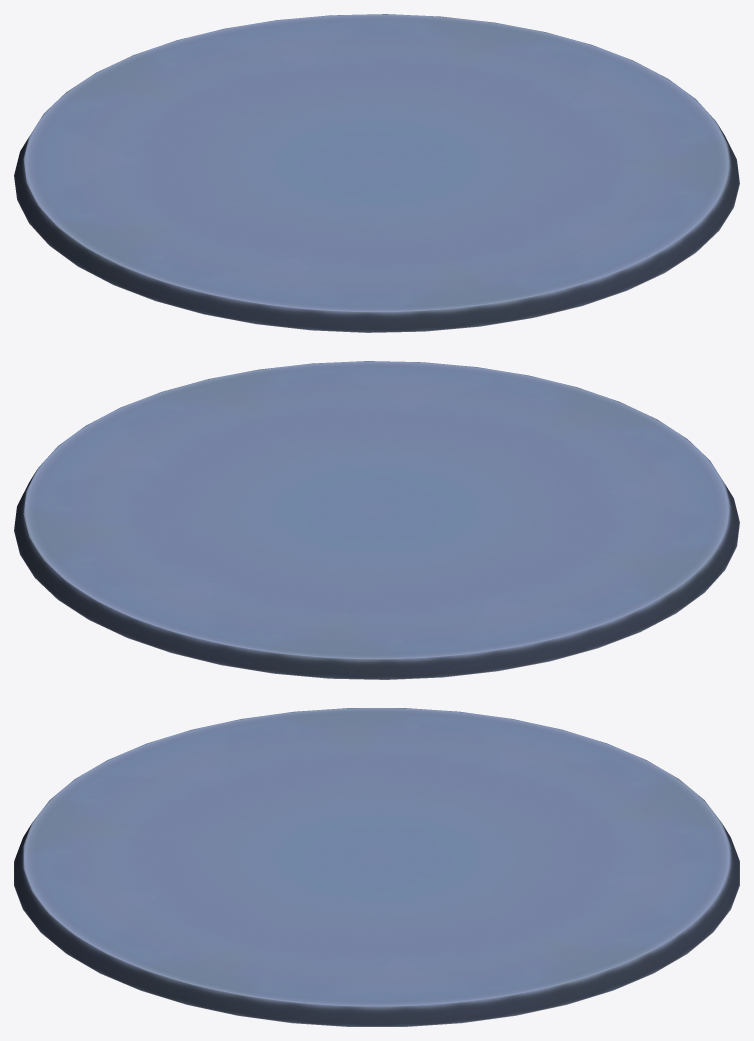
The model's file is obj_rstairs.gltf.
3 views of the same model, one above another, from view 1: azimuth 30°, elevation 25°; view 2: azimuth 150°, elevation 25°; view 3: azimuth 270°, elevation 25° (orthographic).
Parts seen in each view (by area): view 1: obj_rstairs; view 2: obj_rstairs; view 3: obj_rstairs.
Part boxes in pixels (<box>): obj_rstairs: <box>14,14,739,332</box>; obj_rstairs: <box>14,361,739,679</box>; obj_rstairs: <box>14,708,739,1026</box>.
Size of what is drawn, in the model's own units: 6.08 by 0.15 by 6.08.
1 material, 1 textured.
